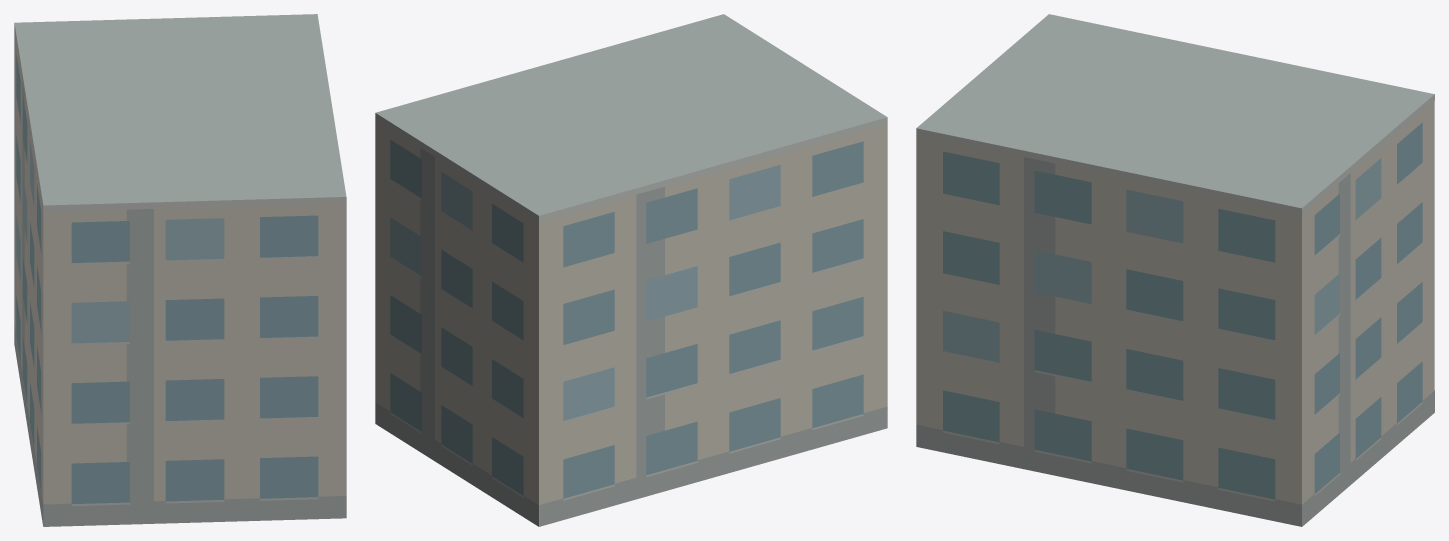
File: residential-28b8e566-43e8-4486-9735-e4e1e7203eeb.glb
3 views of the same model, side by side, from view 1: azimuth 30°, elevation 25°; view 2: azimuth 150°, elevation 25°; view 3: azimuth 270°, elevation 25° (orthographic). The views are drawn at different scales.
Visible parts, largest first — view 1: residential-28b8e566-43e8-4486-9735-e4e1e7203eeb.tmp; view 2: residential-28b8e566-43e8-4486-9735-e4e1e7203eeb.tmp; view 3: residential-28b8e566-43e8-4486-9735-e4e1e7203eeb.tmp.
Part boxes in pixels (x1,y1,x2,y2): residential-28b8e566-43e8-4486-9735-e4e1e7203eeb.tmp: (14,14,346,526); residential-28b8e566-43e8-4486-9735-e4e1e7203eeb.tmp: (375,14,887,526); residential-28b8e566-43e8-4486-9735-e4e1e7203eeb.tmp: (916,14,1434,526).
Size of the model in its own units: 15.71 by 12 by 17.71.
